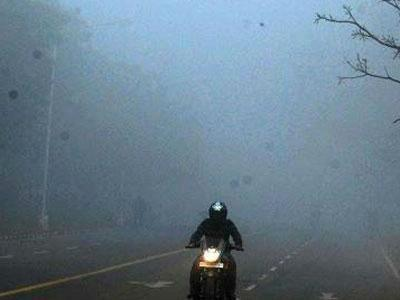backpack: (186, 237, 238, 298), (190, 204, 241, 254), (196, 219, 236, 261), (199, 223, 226, 253), (197, 235, 223, 264), (226, 218, 243, 250), (196, 249, 225, 267), (200, 245, 221, 263), (184, 240, 200, 248)
baseball glove: (200, 245, 221, 263)
bench: (188, 244, 237, 299), (197, 232, 229, 266)
bicycle: (188, 237, 240, 298), (198, 233, 232, 277), (197, 235, 223, 264), (200, 245, 221, 263)
bird: (197, 235, 223, 264), (200, 245, 221, 263)
boat: (196, 235, 223, 264), (200, 245, 221, 263)
book: (200, 245, 221, 263)
bottle: (185, 238, 240, 294), (199, 245, 221, 263)
bowl: (201, 246, 220, 262)
bus: (185, 236, 239, 297)
cake: (198, 244, 220, 263)
car: (0, 227, 268, 297), (120, 239, 241, 299), (186, 209, 241, 269), (187, 238, 239, 299), (197, 235, 223, 264), (200, 245, 221, 263), (268, 255, 286, 274)
cat: (188, 244, 237, 299), (191, 234, 227, 285), (197, 236, 223, 264), (202, 244, 220, 263)
cell phone: (201, 241, 221, 263)
chair: (188, 244, 237, 299), (193, 235, 229, 284), (196, 219, 236, 261), (197, 235, 223, 264), (200, 245, 221, 263)
clock: (200, 244, 221, 263)
cow: (186, 237, 239, 299)
cup: (200, 245, 220, 264)
dog: (186, 237, 238, 298), (197, 236, 223, 264), (202, 244, 220, 263)
donut: (200, 245, 221, 263)
fire hydrant: (186, 209, 241, 269), (186, 237, 238, 298)
frisbee: (200, 244, 221, 263), (202, 251, 219, 263)
handbag: (186, 237, 238, 298), (194, 227, 229, 263), (198, 238, 223, 265), (201, 246, 220, 263)
horse: (184, 237, 238, 299), (185, 200, 241, 251), (198, 236, 223, 264)
keyboard: (200, 242, 222, 263)
kite: (187, 238, 239, 299), (200, 245, 221, 263)
laptop: (200, 239, 221, 263)
motorcycle: (174, 212, 258, 293), (185, 209, 240, 269), (186, 237, 239, 299), (191, 234, 227, 285), (186, 227, 233, 261), (194, 238, 237, 268), (197, 235, 223, 264), (200, 245, 221, 263)
mouse: (200, 244, 221, 263)
parking meter: (186, 236, 238, 298)
person: (179, 210, 240, 283), (186, 237, 239, 298), (185, 201, 242, 255), (208, 231, 247, 295), (196, 219, 236, 261), (183, 204, 215, 248), (221, 205, 245, 253), (199, 233, 223, 263), (226, 218, 243, 250)
potted plant: (197, 235, 223, 264), (200, 245, 221, 263)
remote: (200, 246, 220, 262)
scissors: (200, 244, 221, 263)
sheep: (197, 236, 223, 264)
sink: (198, 244, 220, 263)
skateboard: (200, 242, 221, 263), (184, 240, 200, 248)
snowboard: (186, 238, 239, 299), (200, 240, 221, 263), (184, 240, 199, 248)
sports ball: (184, 237, 238, 299), (200, 245, 221, 263)
suitcase: (187, 245, 236, 299), (191, 234, 227, 285), (197, 236, 223, 264), (195, 248, 223, 267), (200, 246, 220, 262)
teddy bear: (186, 237, 238, 298), (186, 211, 239, 269), (198, 241, 220, 264)
toilet: (188, 247, 237, 299), (198, 241, 220, 264)
traffic light: (186, 237, 239, 298), (200, 245, 221, 263)
train: (187, 246, 236, 299)
truck: (0, 227, 268, 297), (187, 238, 239, 299)
tv: (187, 246, 236, 299), (200, 244, 221, 263)
umbrella: (200, 245, 221, 263)
vase: (197, 235, 223, 264), (200, 245, 221, 263)
